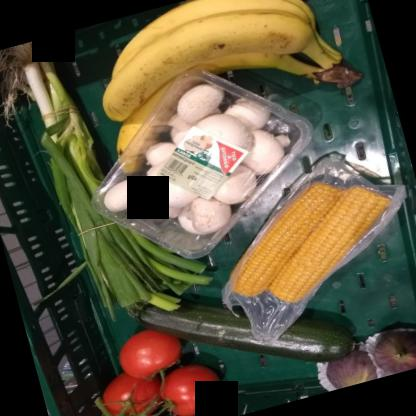corn: (210, 165, 406, 318)
cucumber: (132, 252, 360, 406)
egg: (185, 106, 255, 168), (140, 154, 201, 214), (174, 191, 233, 238), (233, 124, 286, 176), (172, 79, 228, 122), (209, 162, 258, 206), (100, 175, 148, 213)
onion: (321, 345, 384, 390), (367, 318, 415, 377)
tomato: (112, 320, 186, 382), (156, 358, 227, 415), (93, 363, 169, 415)
